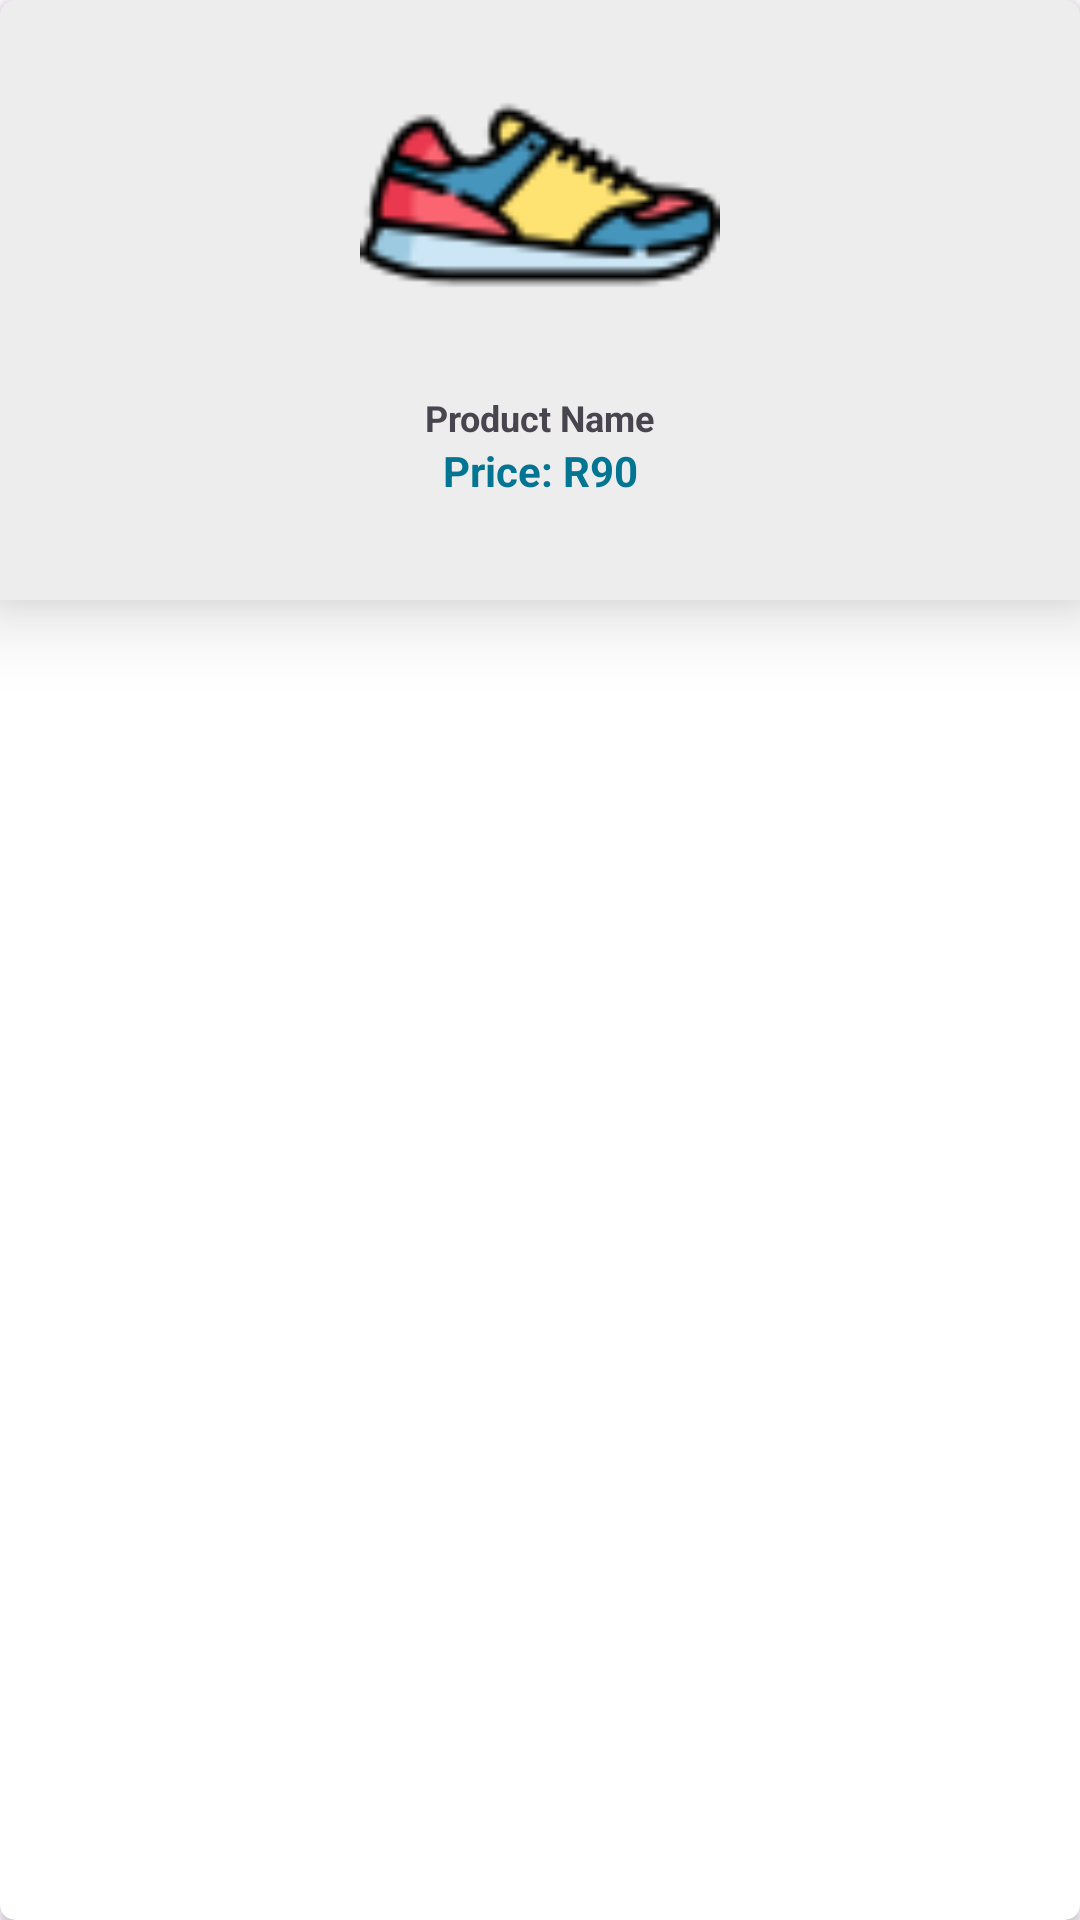

Where to tap for icons on this 1080 x 1920 app screen, as (x=x, y=y):
casualsneakers: (x=540, y=195)
